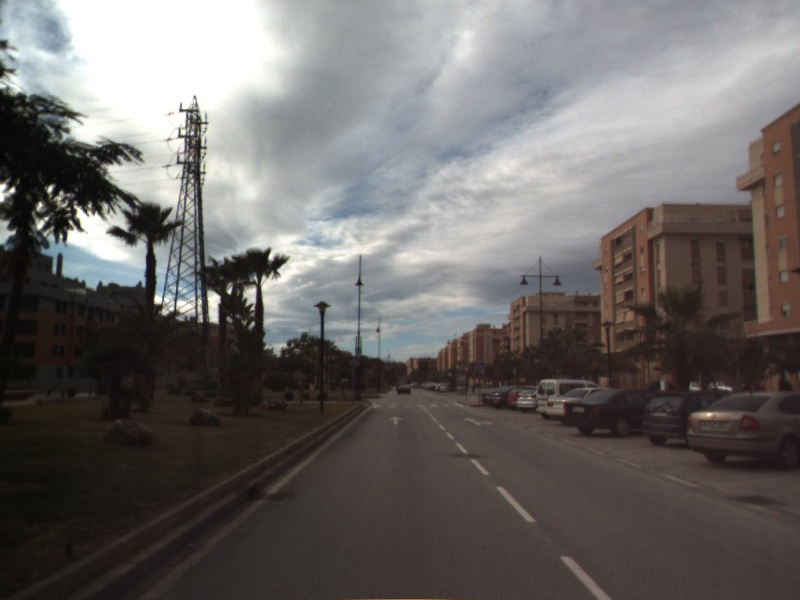STRAIGHT: (387, 414, 406, 427)
STRAIGHT_RIGHT: (461, 415, 495, 428)
